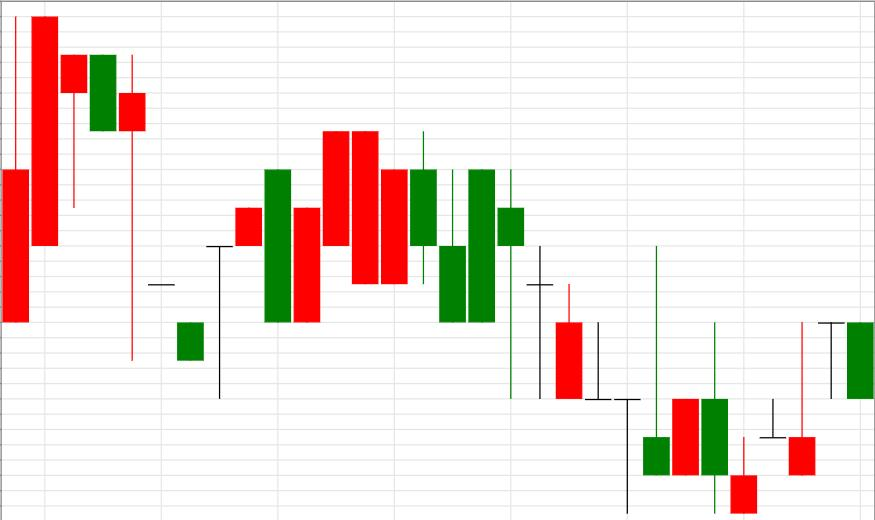inverse_hammer_rise: (468, 169, 670, 513)
